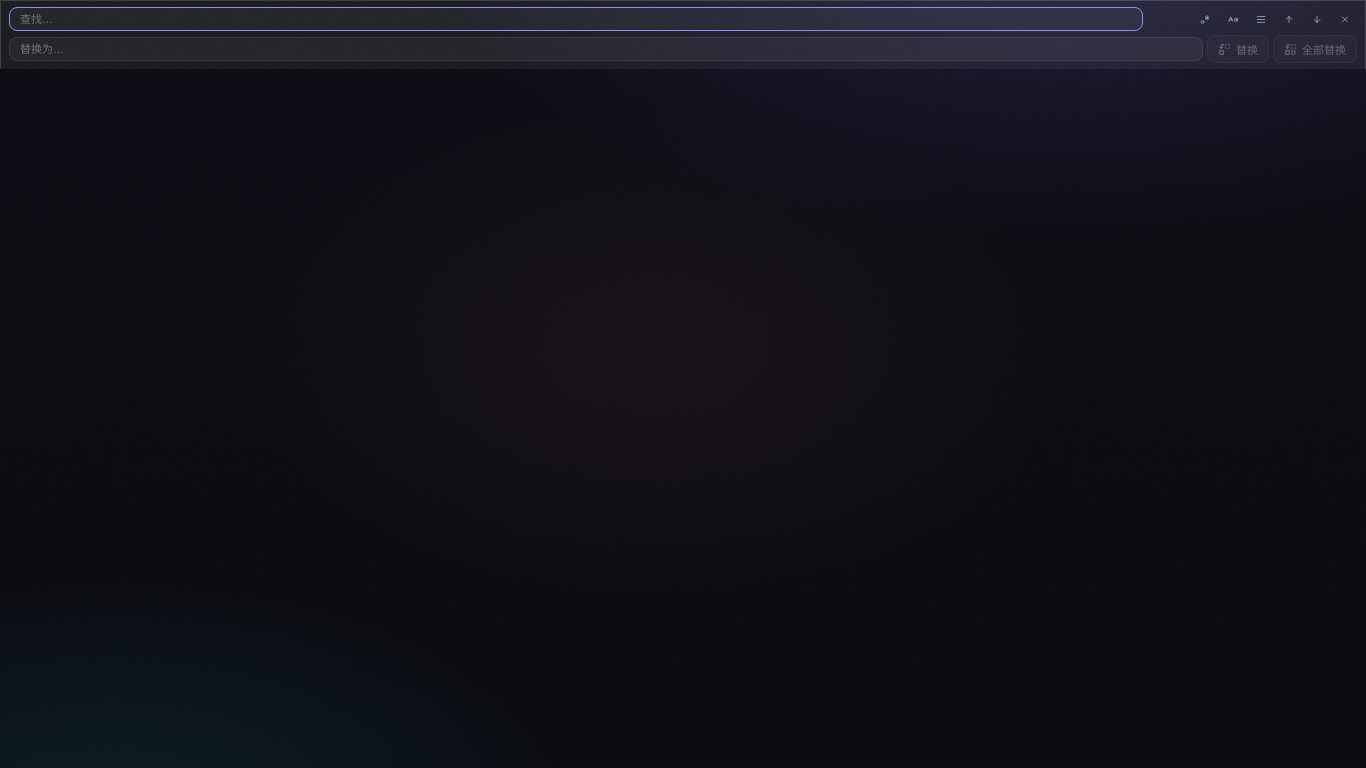
v7 Phase 2 — 正则开关 › 非法正则显示「正则错误」
Type "(" into the field named "查找内容" at (576, 19), box [9,7,1143,31]
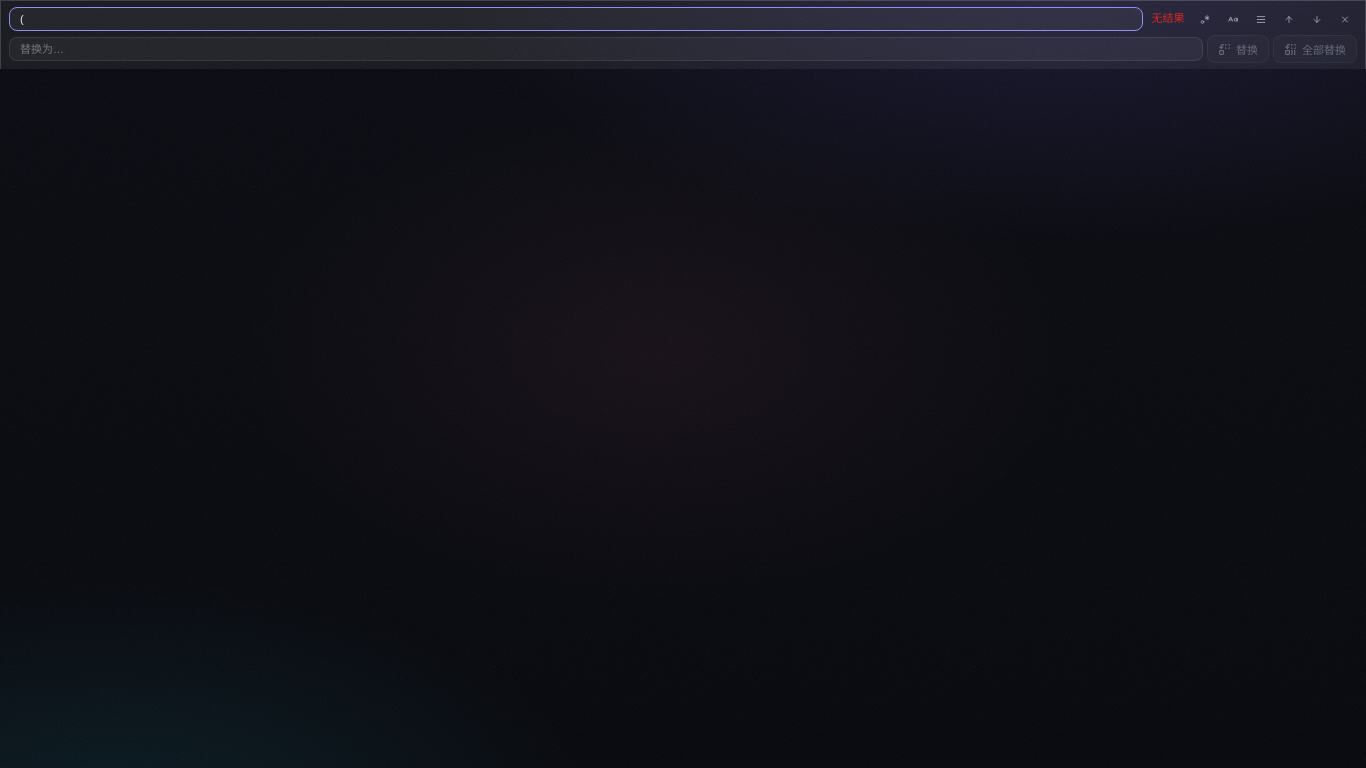
Click the button named "正则匹配" at (1205, 19), box [1193,7,1217,31]
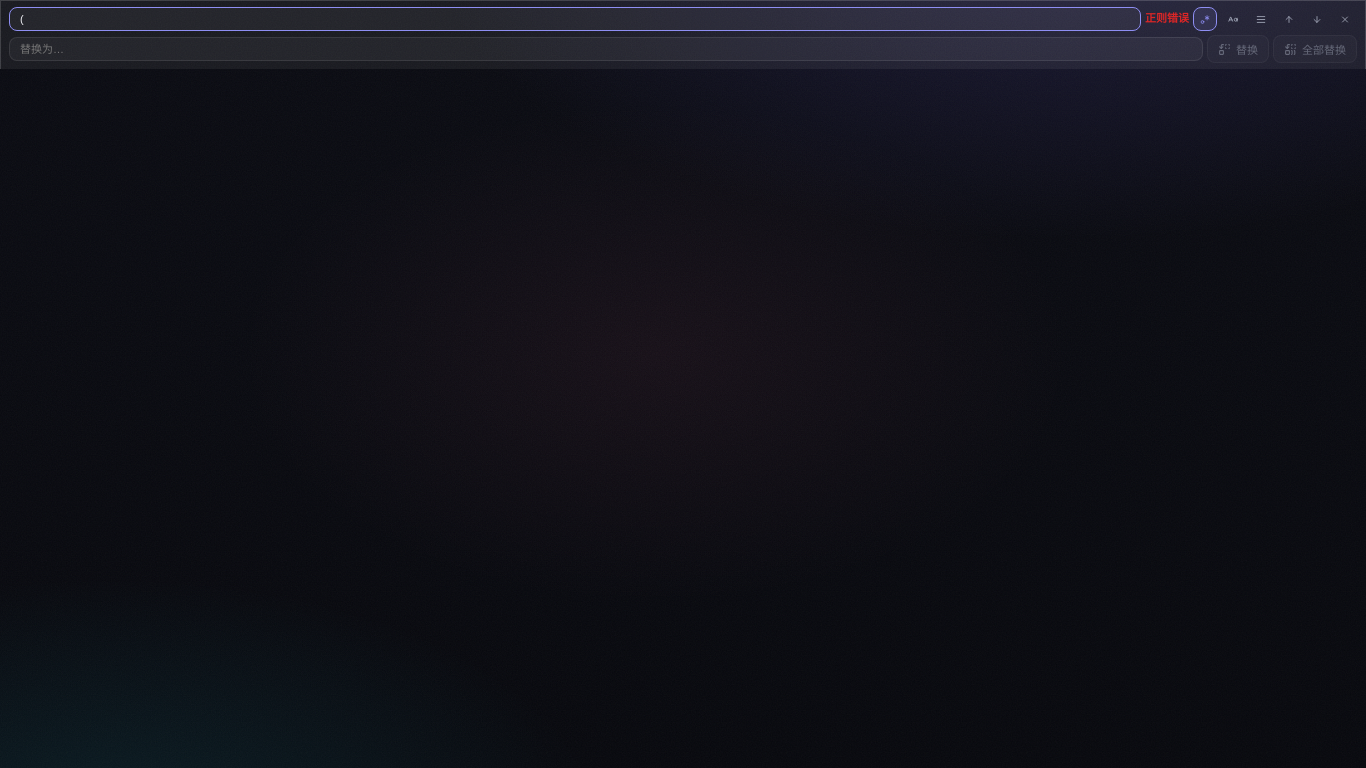
Result: the text "正则错误" is shown at [1145,10,1189,28]
